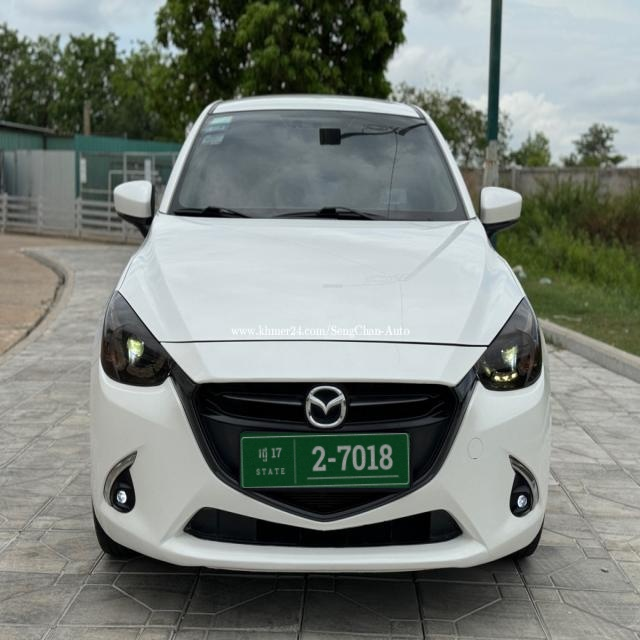Plate Number: (241, 433, 410, 488)
